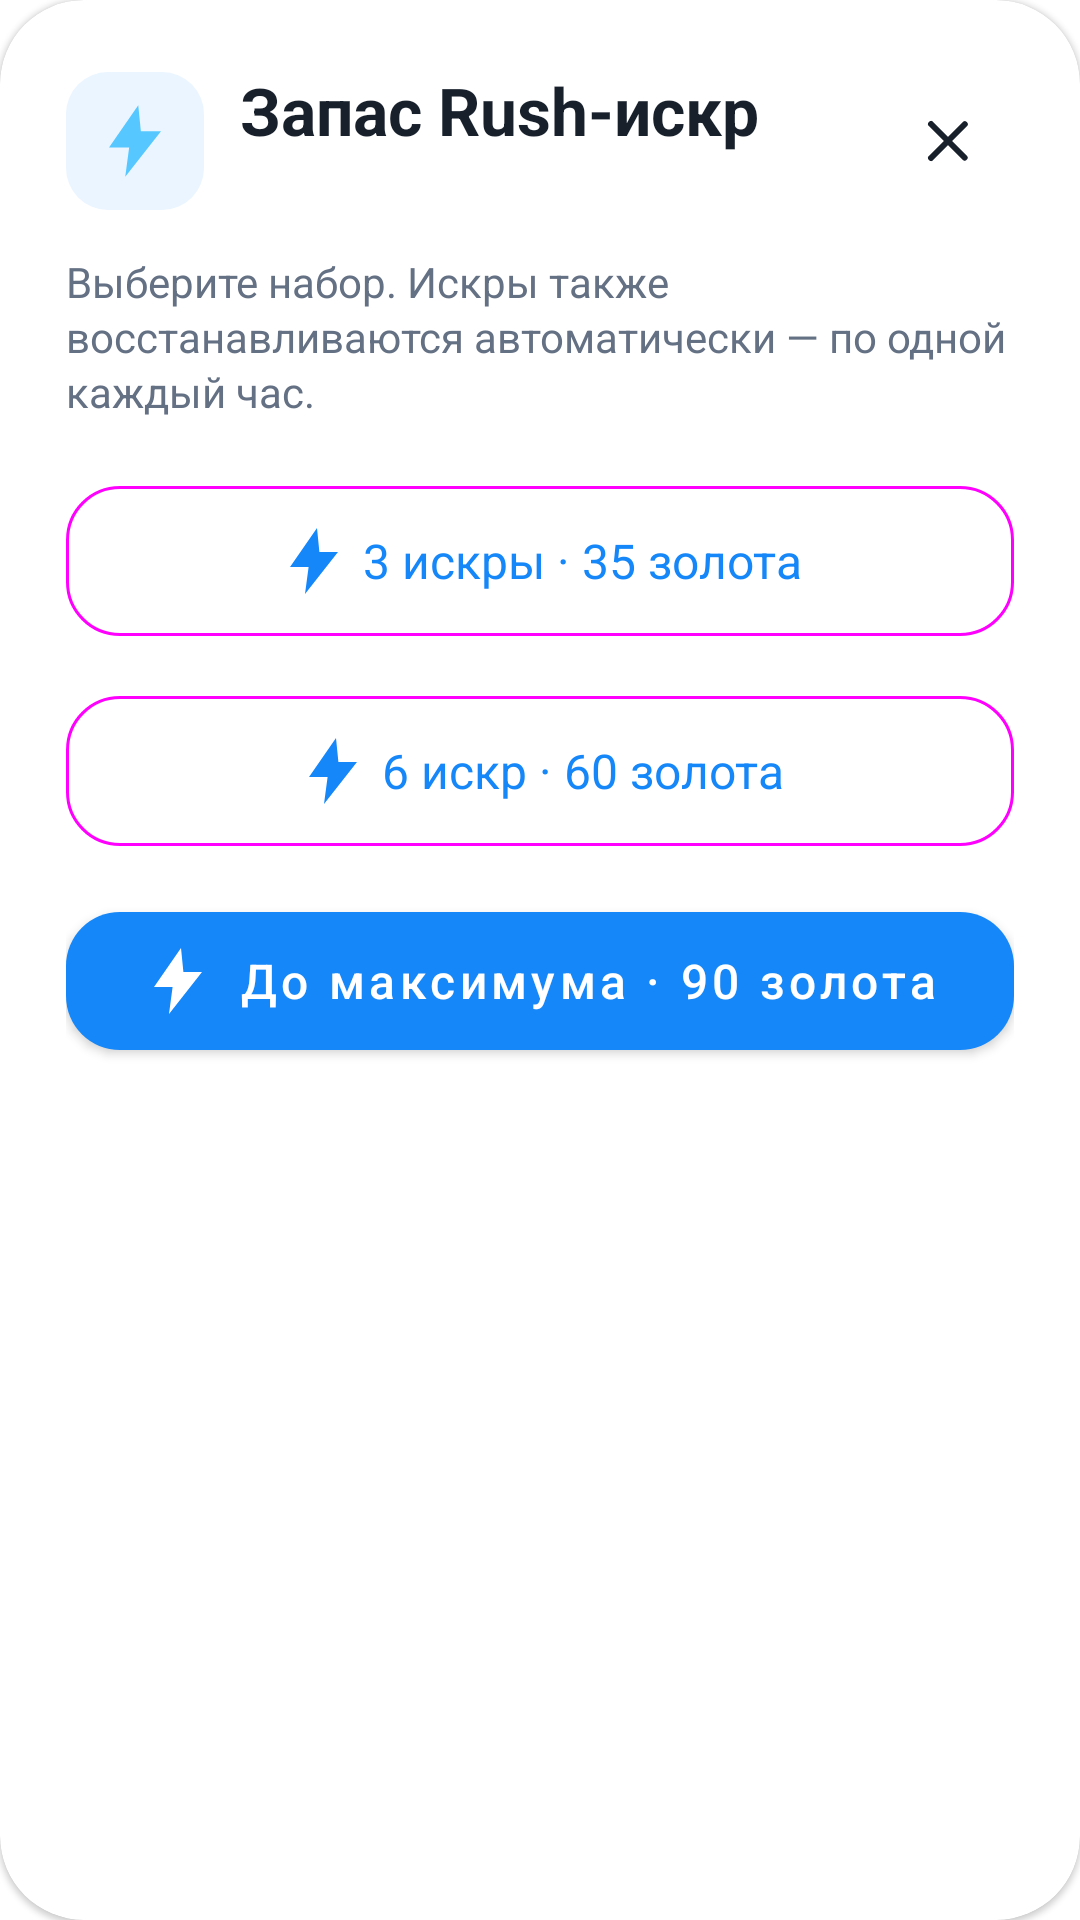

Named icons in this screenshot (1080 × 1920) and their centers, [x,y]:
rush spark: [135,141]
Закрыть: [948,141]
